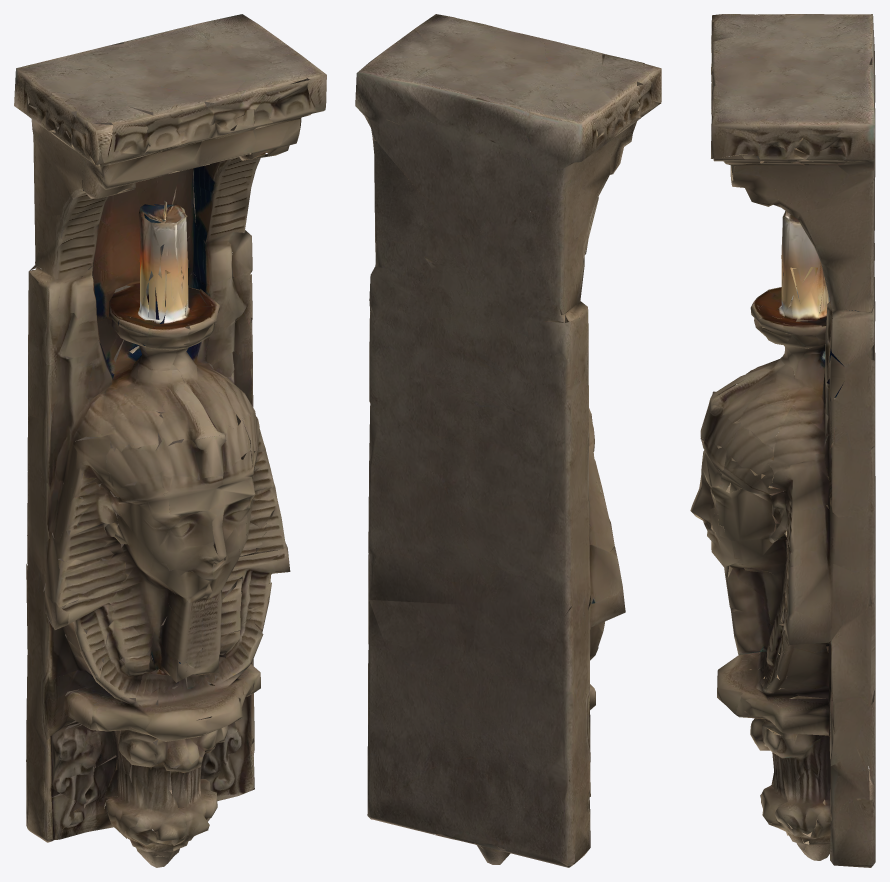
Rendered from wall_torch_dec.glb.
3 renders of one model, left to right at view 1: azimuth 30°, elevation 25°; view 2: azimuth 150°, elevation 25°; view 3: azimuth 270°, elevation 25°, orthographic. The views are drawn at different scales.
Visible parts, largest first — view 1: Mesh_0.018; view 2: Mesh_0.018; view 3: Mesh_0.018.
Part boxes in pixels (x1=…): Mesh_0.018: x1=14, y1=14, x2=326, y2=867; Mesh_0.018: x1=355, y1=14, x2=661, y2=867; Mesh_0.018: x1=690, y1=14, x2=875, y2=867.
Size of the model in its own units: 0.5858 by 1.91 by 0.4057.
1 material, 1 textured.
